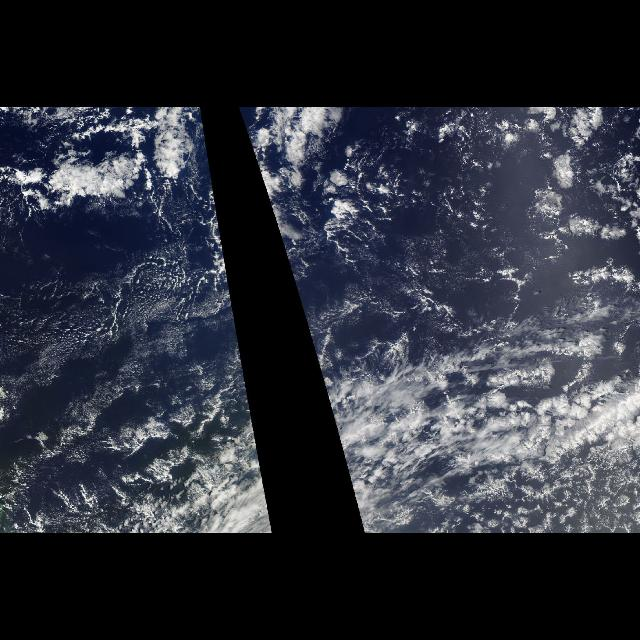Gravel: (474, 471, 640, 533)
Sugar: (6, 233, 246, 413), (352, 116, 526, 322)
